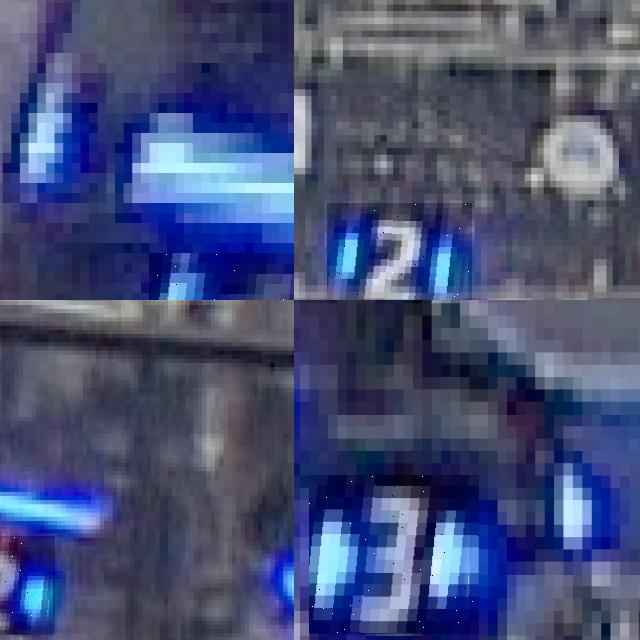B2: (327, 203, 471, 300), (0, 535, 54, 635), (270, 523, 294, 614)
B3: (309, 476, 479, 636)
